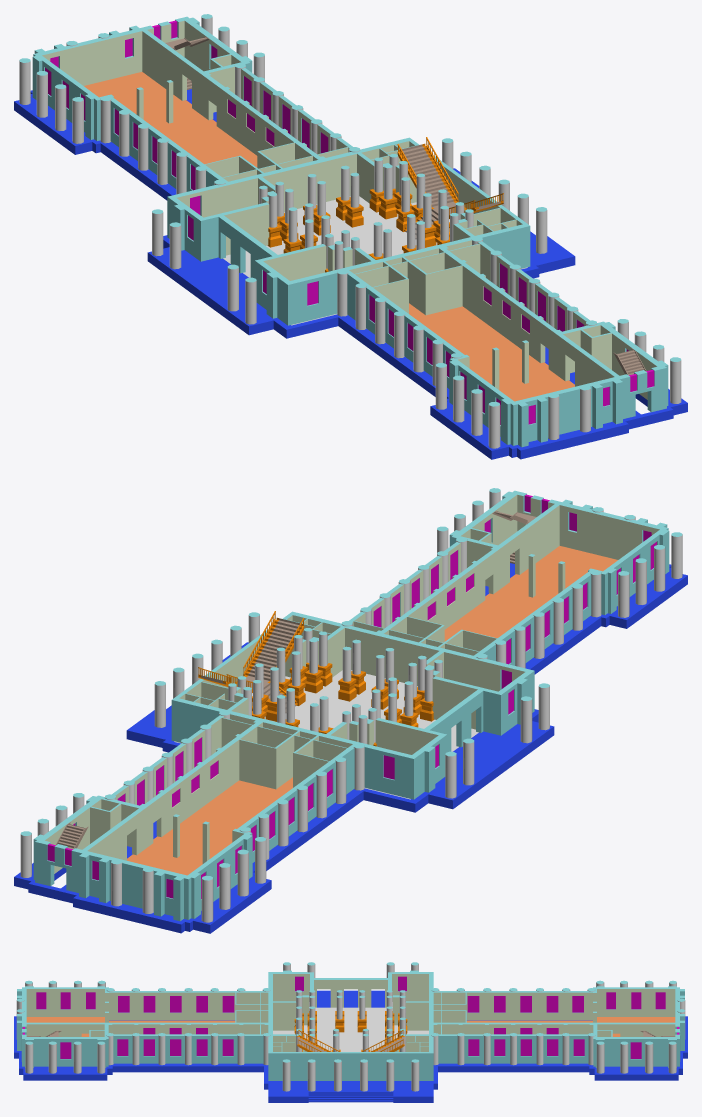
The model's file is main4-1f.fbx.
3 views of the same model, one above another, from view 1: azimuth 30°, elevation 25°; view 2: azimuth 150°, elevation 25°; view 3: azimuth 270°, elevation 25° (orthographic). The views are drawn at different scales.
Parts seen in each view (by area): view 1: building1f; view 2: building1f; view 3: building1f.
Boxes of the visible parts, box(x1,y1,x2,y2) form: building1f: box(14, 14, 687, 459); building1f: box(14, 488, 687, 933); building1f: box(14, 962, 687, 1102).
Bounding box in the file's own units: 334 × 68.85 × 898.
